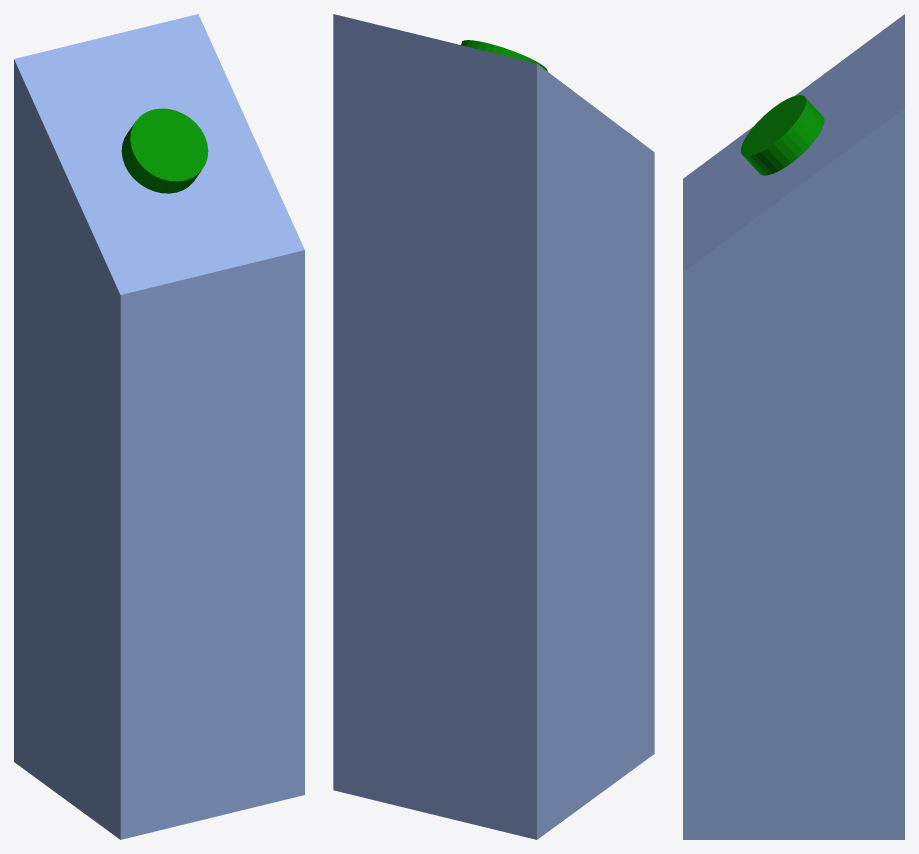
File: buttonObj.fbx
3 renders of one model, left to right at view 1: azimuth 30°, elevation 25°; view 2: azimuth 150°, elevation 25°; view 3: azimuth 270°, elevation 25°, orthographic. The views are drawn at different scales.
Visible parts, largest first — view 1: Куб, Цилиндр; view 2: Куб; view 3: Куб, Цилиндр.
Boxes of the visible parts, box(x1,y1,x2,y2) form: Куб: box(14, 14, 304, 839); Цилиндр: box(121, 108, 208, 193); Куб: box(333, 14, 654, 839); Куб: box(683, 14, 904, 839); Цилиндр: box(740, 95, 824, 175).
Bounding box in the file's own units: 35.67 × 130 × 35.67.
